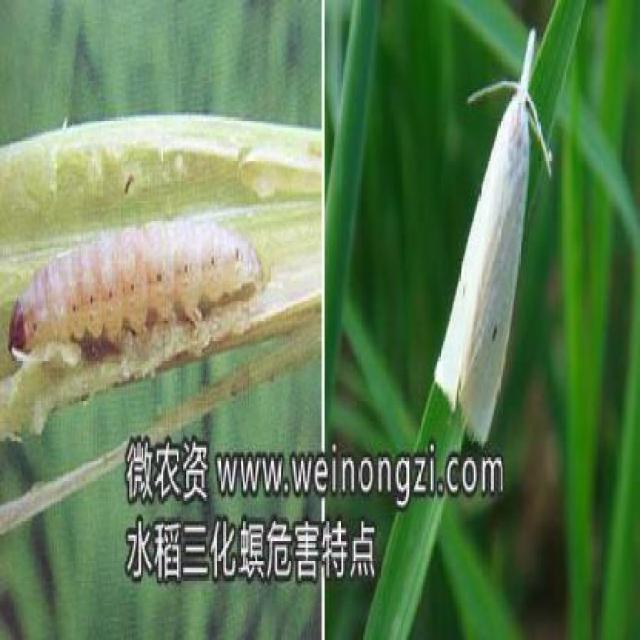stem-borer: (429, 19, 554, 446)
